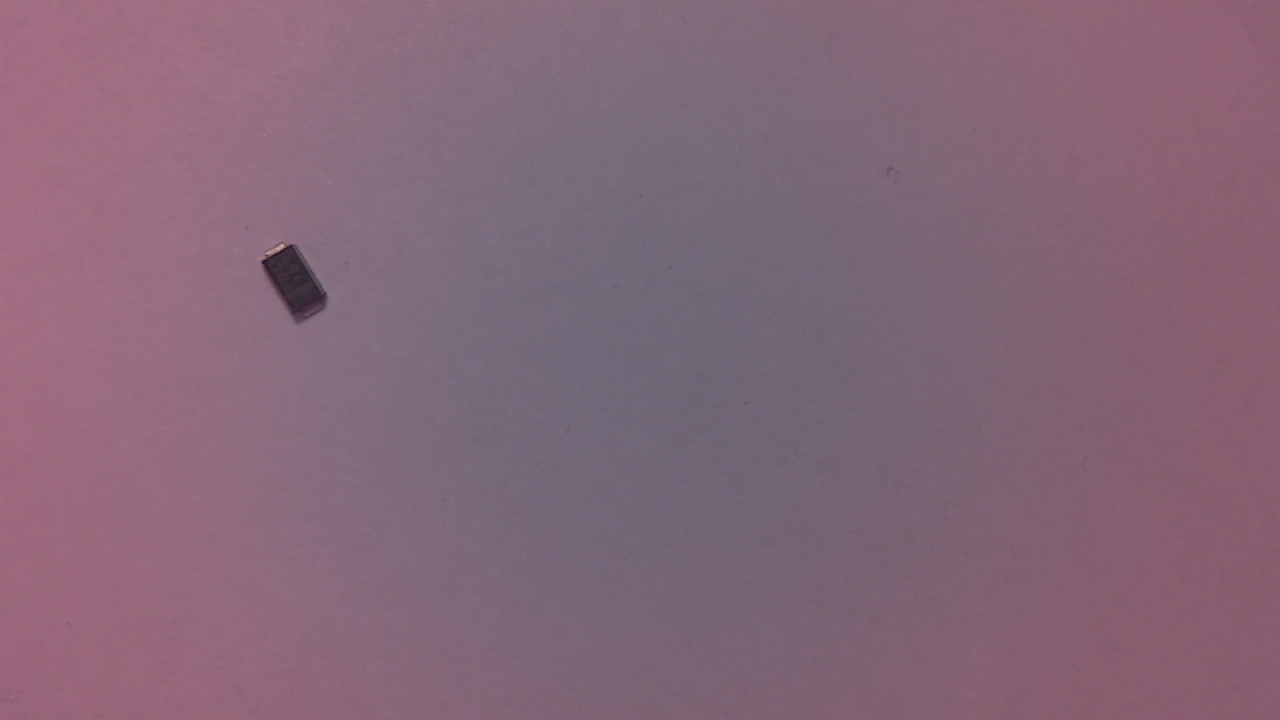Diode: (265, 245, 333, 327)
